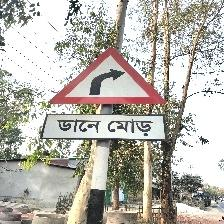Right-turn: (42, 45, 168, 141)
